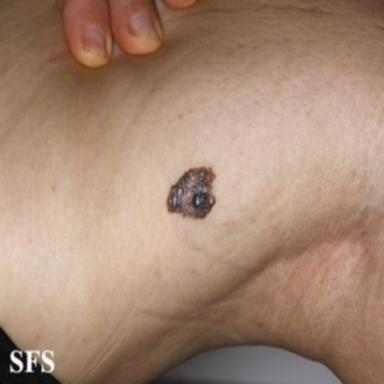Melanoma: (167, 168, 215, 217)
